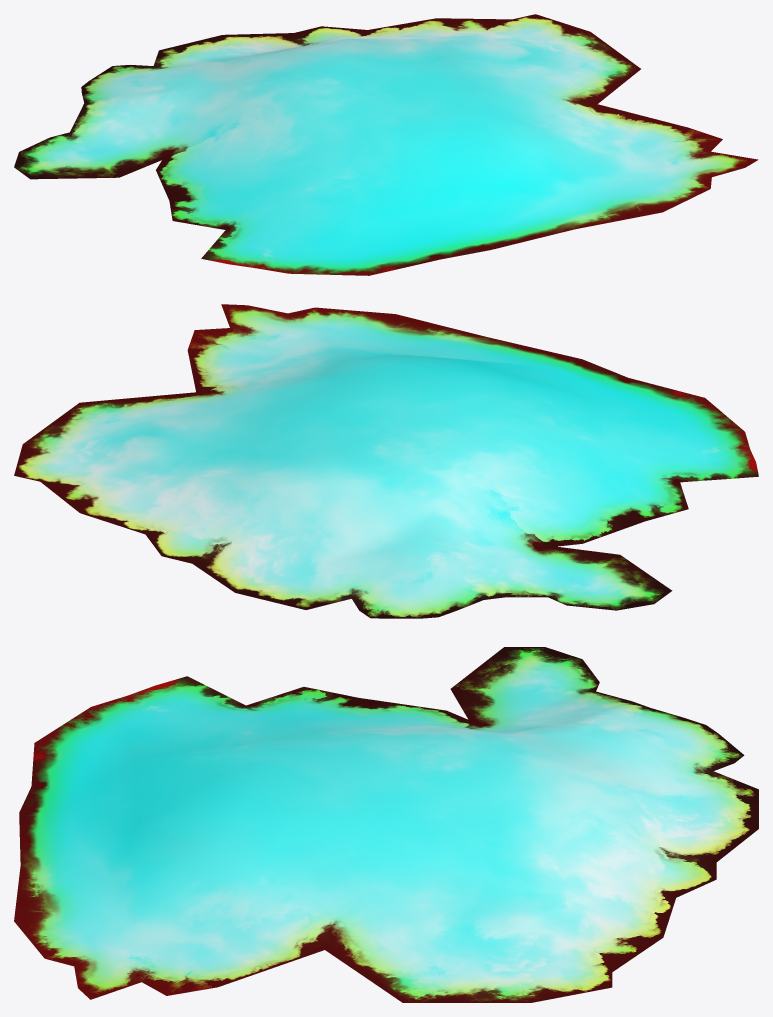
Rendered from Mesh_QuantumMetaCloud_5.FBX.
3 views of the same model, one above another, from view 1: azimuth 30°, elevation 25°; view 2: azimuth 150°, elevation 25°; view 3: azimuth 270°, elevation 25° (orthographic). The views are drawn at different scales.
Parts seen in each view (by area): view 1: Mesh_QuantumMetaCloud_5; view 2: Mesh_QuantumMetaCloud_5; view 3: Mesh_QuantumMetaCloud_5.
Boxes of the visible parts, box(x1,y1,x2,y2) form: Mesh_QuantumMetaCloud_5: box(14, 14, 758, 275); Mesh_QuantumMetaCloud_5: box(14, 304, 758, 618); Mesh_QuantumMetaCloud_5: box(14, 647, 758, 1002).
Size of the model in its own units: 1000 by 885 by 73.09.
